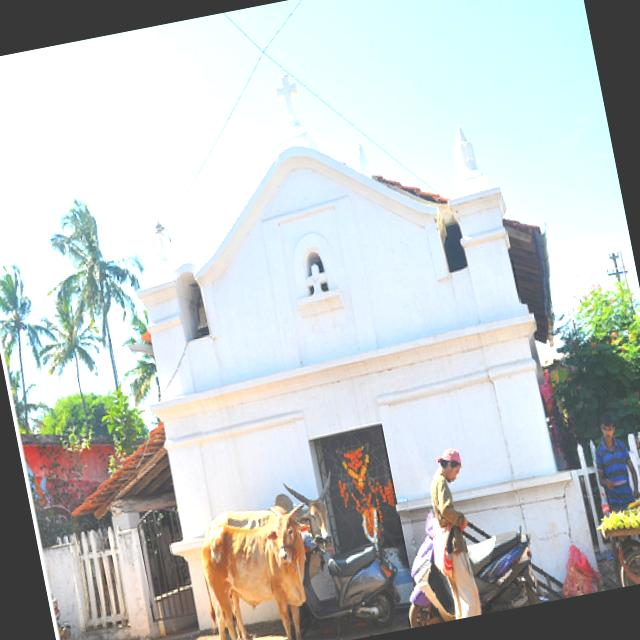Vehicle: (384, 492, 542, 629), (282, 513, 408, 640)
